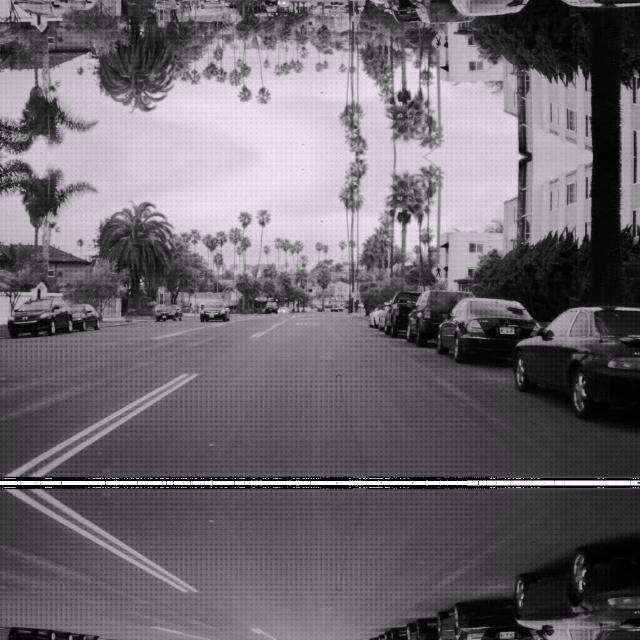pedestrianCrossing: (430, 260, 446, 280), (430, 32, 446, 52)
